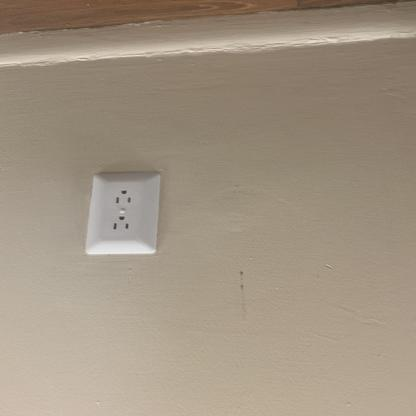OUTLET: (84, 171, 162, 256)
